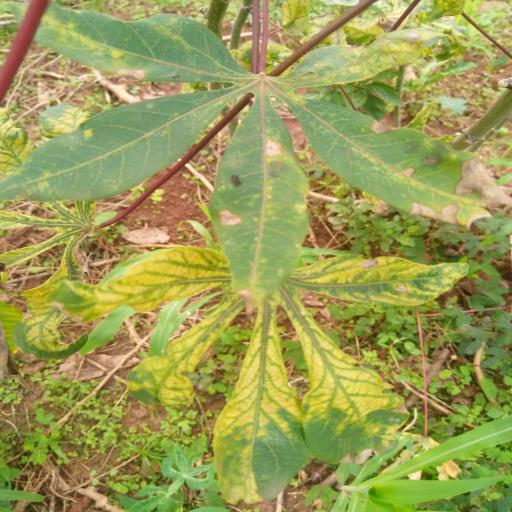Cassava_Mosaic: (9, 5, 512, 303), (82, 232, 486, 500)
